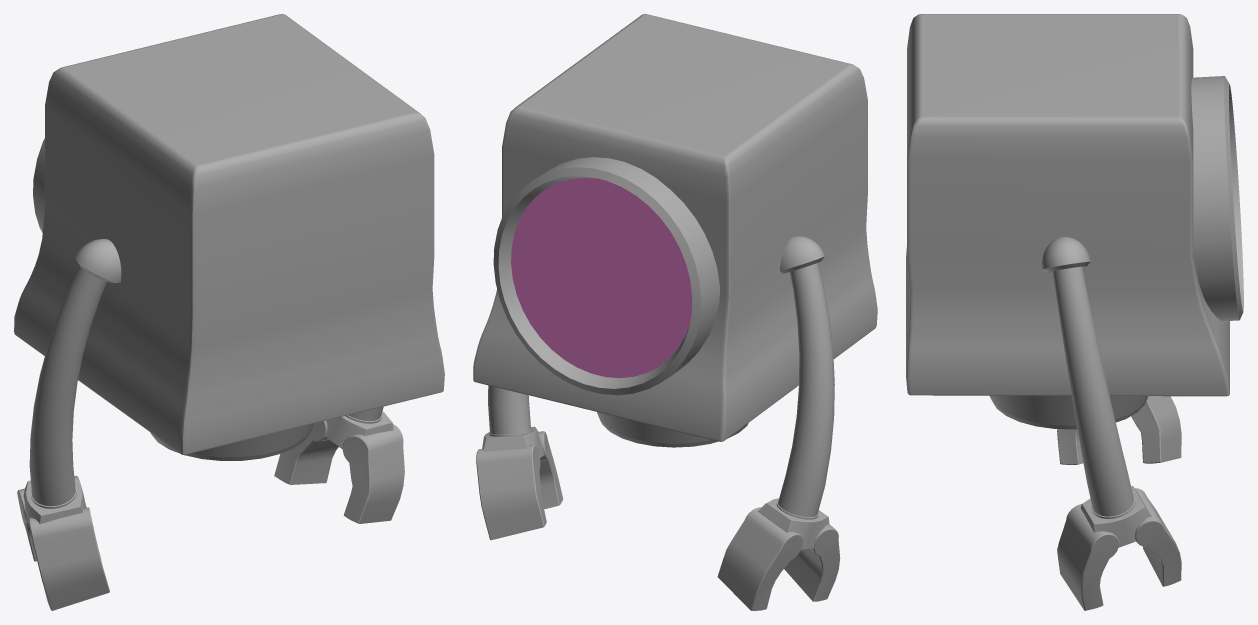
File: Robot_UV 1.fbx
3 views of the same model, side by side, from view 1: azimuth 30°, elevation 25°; view 2: azimuth 150°, elevation 25°; view 3: azimuth 270°, elevation 25° (orthographic). The views are drawn at different scales.
Visible parts, largest first — view 1: pCube1, pCylinder14 (×2), pCylinder11, pCylinder10, pCube3 (×2), pCylinder13, pSphere2, polySurface1; view 2: pCube1, polySurface2, polySurface1, pCylinder11 (×2), pCylinder10 (×2), pCylinder14 (×2), pCube3 (×2), pCylinder13, pSphere2; view 3: pCube1, polySurface1, pCylinder11, pCylinder10 (×2), pCylinder14 (×2), pCylinder13, pCube3, pSphere2.
Part boxes in pixels (x1,y1,x2,y2): pCube1: [14, 14, 444, 454]; pCylinder14 (×2): [28, 424, 404, 610]; pCylinder11: [29, 266, 106, 508]; pCylinder10: [274, 420, 338, 484]; pCube3 (×2): [23, 411, 393, 527]; pCylinder13: [150, 423, 313, 460]; pSphere2: [75, 239, 121, 282]; polySurface1: [33, 138, 44, 232]; pCube1: [473, 14, 877, 441]; polySurface2: [511, 177, 692, 378]; polySurface1: [493, 157, 719, 395]; pCylinder11 (×2): [488, 263, 834, 519]; pCylinder10 (×2): [476, 444, 803, 610]; pCylinder14 (×2): [538, 431, 840, 601]; pCube3 (×2): [482, 426, 829, 549]; pCylinder13: [597, 412, 748, 447]; pSphere2: [780, 236, 824, 273]; pCube1: [906, 14, 1229, 396]; polySurface1: [1191, 76, 1243, 321]; pCylinder11: [1052, 266, 1135, 518]; pCylinder10 (×2): [1131, 396, 1181, 586]; pCylinder14 (×2): [1057, 429, 1118, 610]; pCylinder13: [989, 395, 1148, 429]; pCube3: [1080, 486, 1151, 547]; pSphere2: [1042, 237, 1090, 272].
Bounding box in the file's own units: 138 × 175 × 113.
